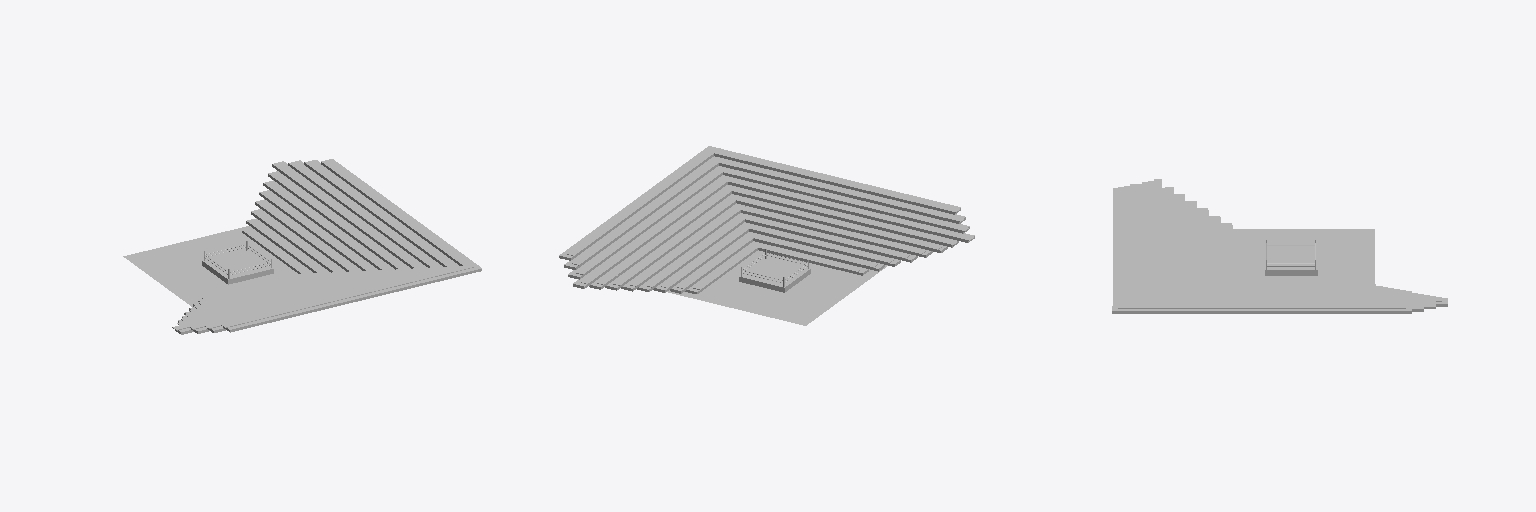
Rendered from ring.obj.
The picture shows the model from 3 angles: view 1: azimuth 30°, elevation 25°; view 2: azimuth 150°, elevation 25°; view 3: azimuth 270°, elevation 25°; orthographic projection.
Parts seen in each view (by area): view 1: 円柱.008; view 2: 円柱.008; view 3: 円柱.008.
Part boxes in pixels (bbox=[...]): 円柱.008: bbox=[123, 159, 481, 334]; 円柱.008: bbox=[559, 146, 974, 325]; 円柱.008: bbox=[1112, 179, 1447, 313].
Size of the model in its own units: 112 by 11.03 by 114.